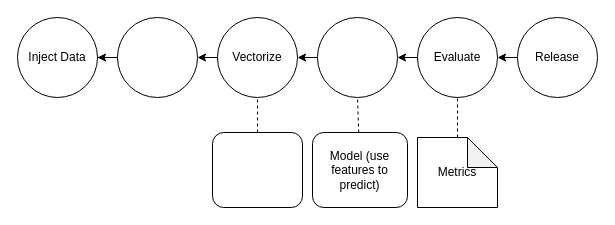
Image size: 615x225. Some labels were removed from this diagram. Each missing label, with the box of its shape:
Preprocess: (116, 16, 198, 98)
Train: (316, 16, 398, 98)
Vectorizer (creates features from text): (212, 132, 302, 208)
